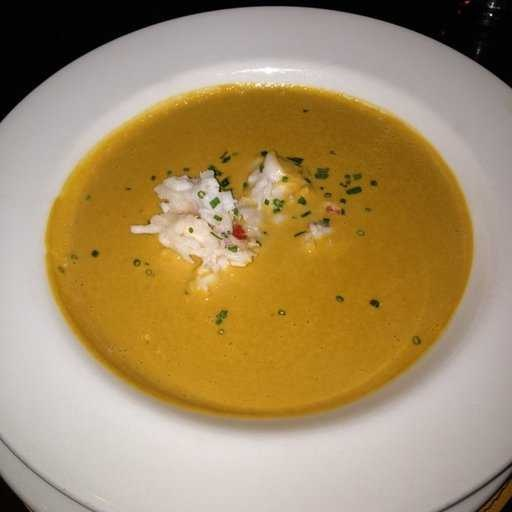soup: (26, 77, 471, 454)
